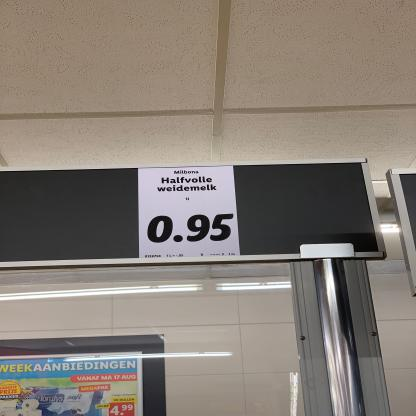prtg: (139, 167, 242, 259)
